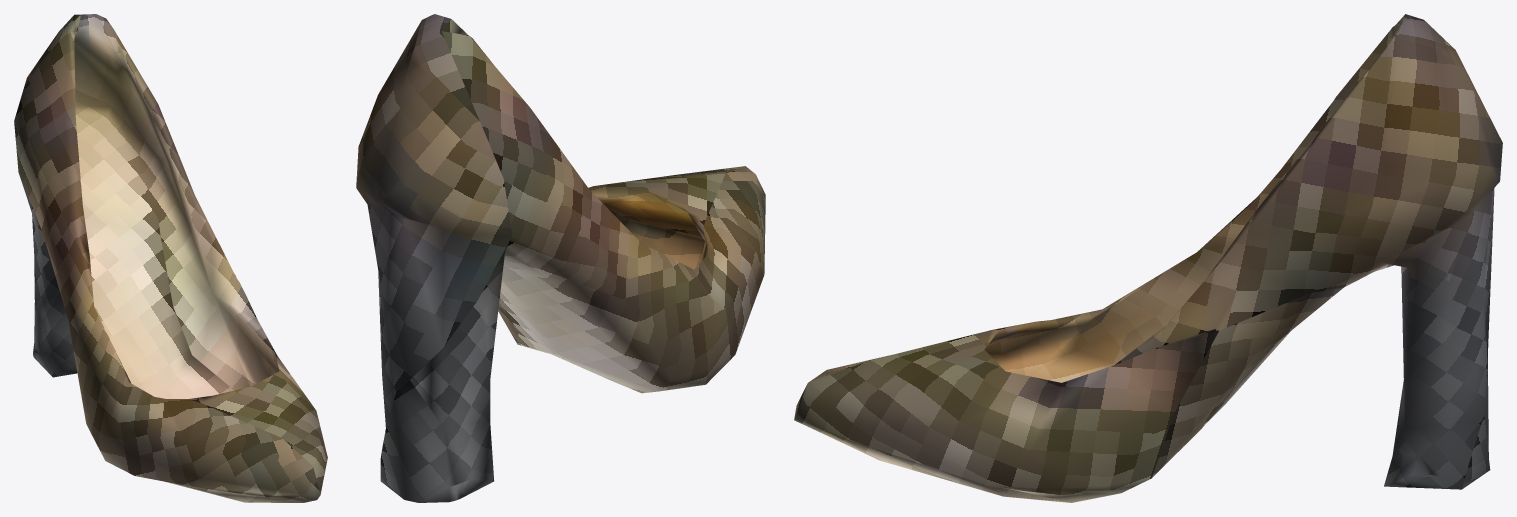
The model's file is Chelsea_BlkHeelPMP_DwxLtZNxLZZ-low.glb.
3 renders of one model, left to right at view 1: azimuth 30°, elevation 25°; view 2: azimuth 150°, elevation 25°; view 3: azimuth 270°, elevation 25°, orthographic. The views are drawn at different scales.
Parts seen in each view (by area): view 1: Chelsea_BlkHeelPMP_DwxLtZNxLZZ; view 2: Chelsea_BlkHeelPMP_DwxLtZNxLZZ; view 3: Chelsea_BlkHeelPMP_DwxLtZNxLZZ.
Part boxes in pixels (x1,y1,x2,y2): Chelsea_BlkHeelPMP_DwxLtZNxLZZ: (14, 14, 327, 502); Chelsea_BlkHeelPMP_DwxLtZNxLZZ: (356, 14, 765, 502); Chelsea_BlkHeelPMP_DwxLtZNxLZZ: (794, 14, 1502, 502).
Bounding box in the file's own units: 0.0853 × 0.1705 × 0.2393.
1 material, 1 textured.
